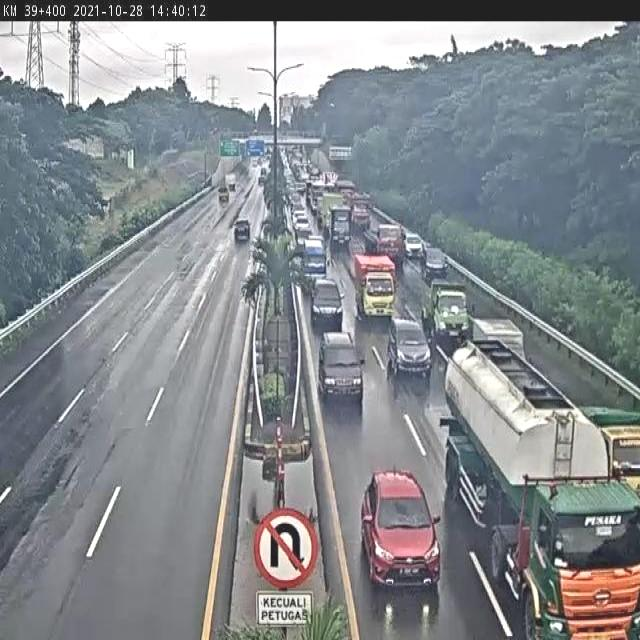Bus: (300, 240, 330, 293)
Car: (359, 473, 441, 588), (318, 329, 364, 402), (389, 321, 432, 380), (310, 279, 344, 329), (421, 246, 447, 276), (404, 235, 424, 260), (233, 218, 251, 242), (294, 215, 312, 232)
Truck: (439, 338, 640, 640), (575, 396, 640, 499), (353, 251, 399, 321), (470, 316, 525, 366), (420, 276, 465, 336), (365, 220, 406, 260), (328, 206, 354, 249), (322, 191, 342, 235), (349, 193, 369, 228), (334, 180, 355, 200), (225, 174, 237, 191)
